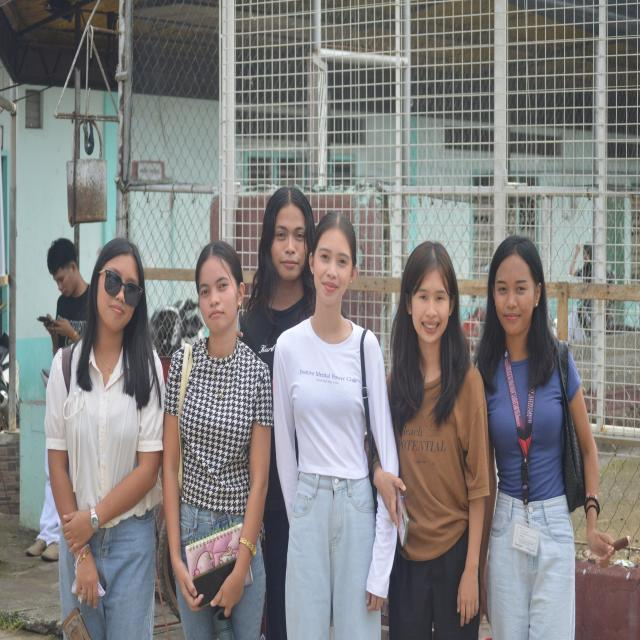person: (274, 213, 396, 639), (45, 239, 164, 639), (376, 242, 489, 639), (163, 241, 272, 639), (476, 236, 575, 639), (264, 432, 288, 639), (46, 239, 87, 353)
